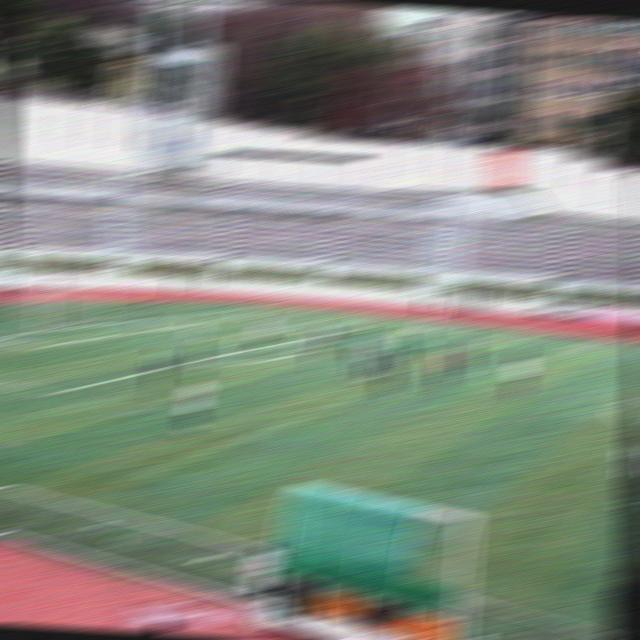bigarea_bottom_inner: (38, 379, 65, 408)
bigarea_top_inner: (346, 326, 366, 334)
bigarea_top_outter: (203, 306, 223, 317)
corner: (268, 300, 288, 310)
smallarea_bottom_inner: (28, 340, 52, 353)
smallarea_top_inner: (181, 320, 199, 332)
top_arc_area_intersection: (279, 333, 305, 349)
